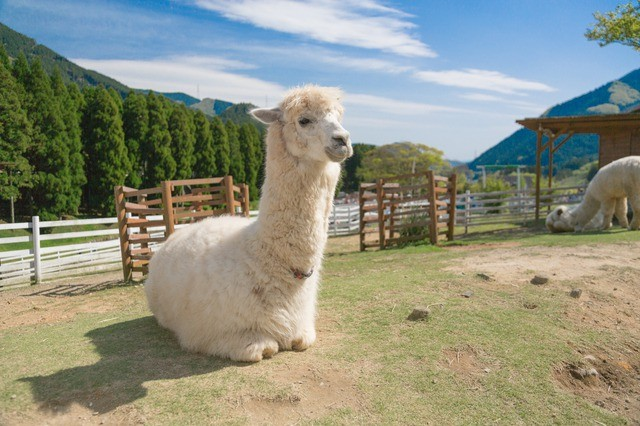alpaca: (143, 81, 356, 365), (567, 155, 640, 233)
